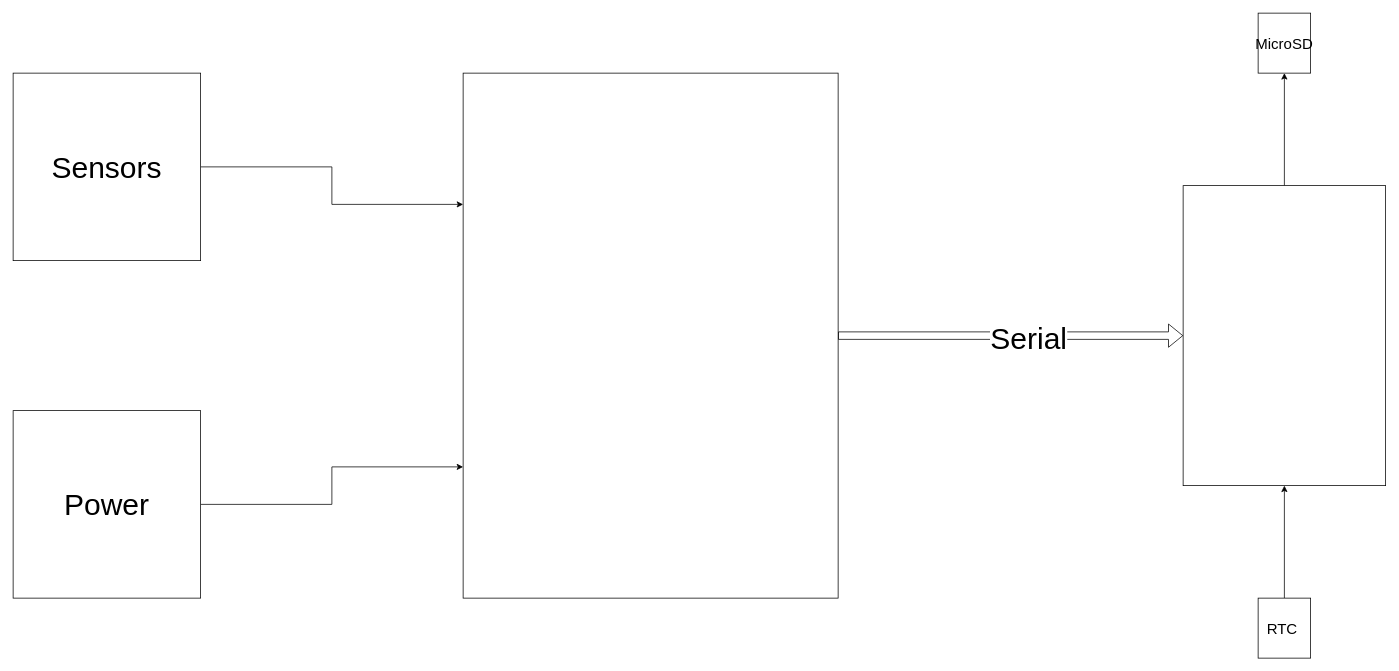
This 1399x671 diagram has some shape labels left out. The centre of each missing label's shape, as x and y in pixels:
"Arduino Uno R3" goes at pixel 650 335.
"ESP32-Cam" goes at pixel 1284 335.
